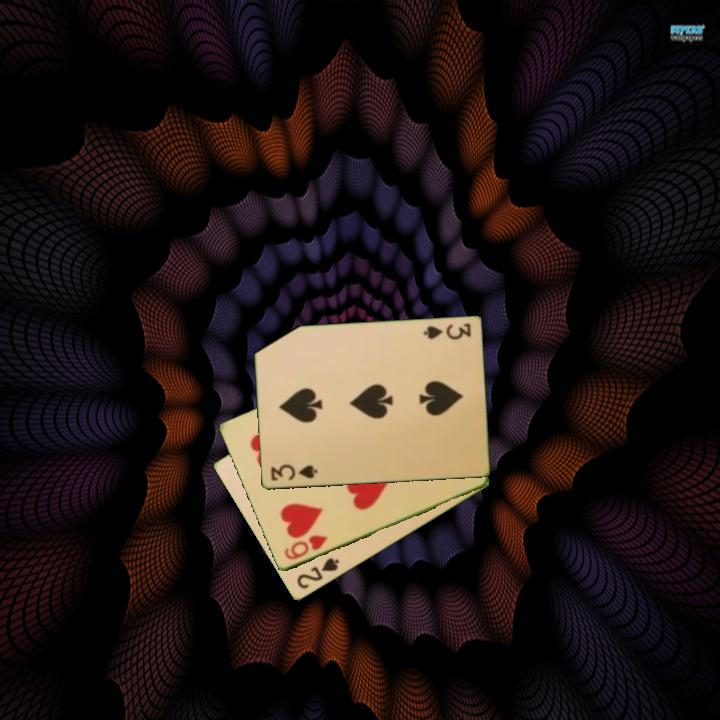2s: (293, 555, 342, 592)
3s: (420, 320, 473, 343), (267, 462, 320, 484)
6h: (280, 531, 330, 563)
